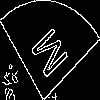M: (24, 24, 70, 87)
